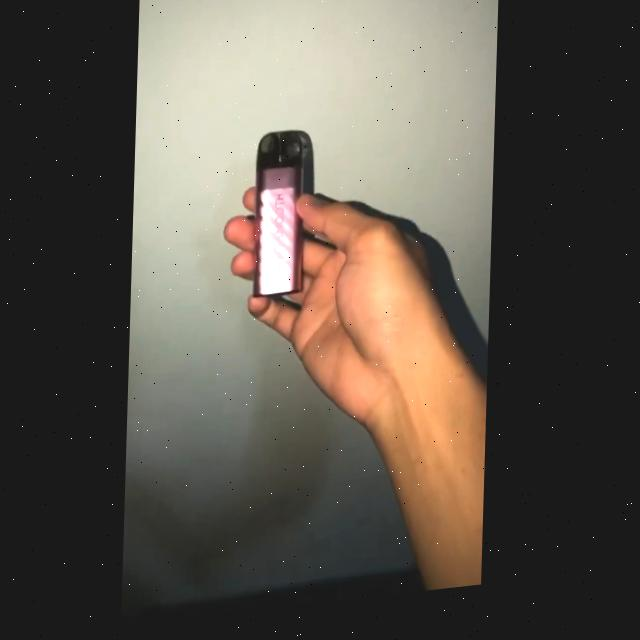vape: (253, 133, 310, 303)
